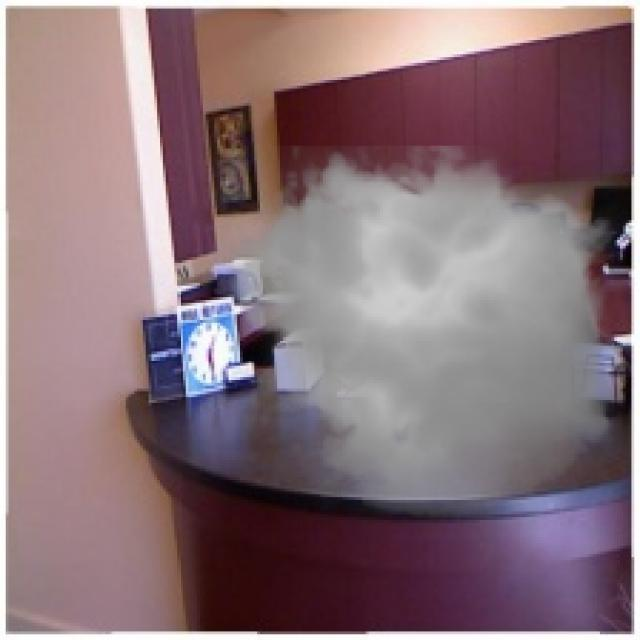smoke: (214, 128, 632, 532)
